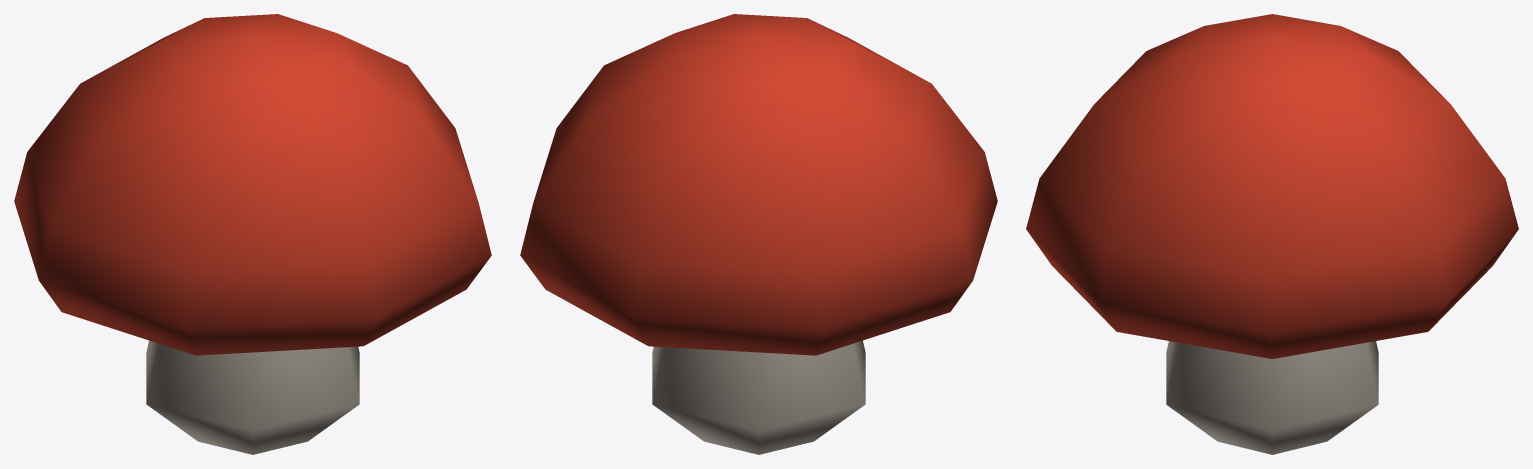
File: SM_Mushroom_1.fbx
3 renders of one model, left to right at view 1: azimuth 30°, elevation 25°; view 2: azimuth 150°, elevation 25°; view 3: azimuth 270°, elevation 25°, orthographic.
Visible parts, largest first — view 1: Mushroom_1; view 2: Mushroom_1; view 3: Mushroom_1.
Part boxes in pixels (bbox=[...]): Mushroom_1: bbox=[14, 14, 491, 454]; Mushroom_1: bbox=[520, 14, 997, 454]; Mushroom_1: bbox=[1026, 14, 1518, 454].
Size of the model in its own units: 196 by 172 by 196.
1 material, 1 textured.
